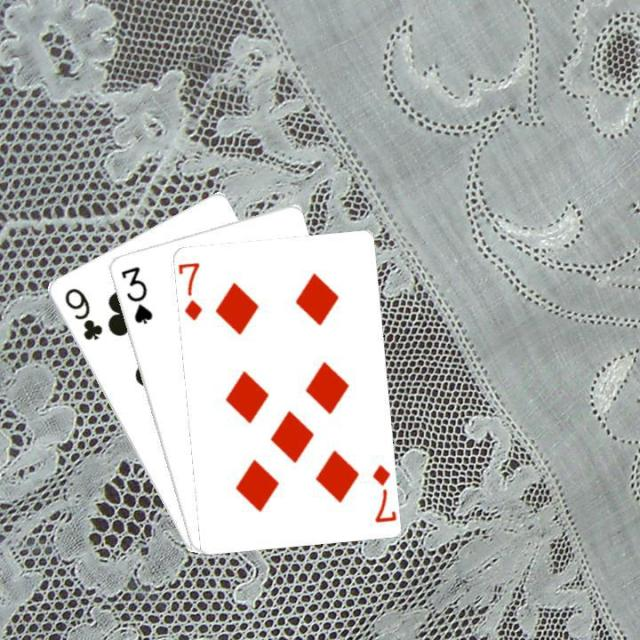3S: (116, 262, 154, 326)
7D: (368, 461, 395, 524), (177, 258, 203, 322)
9C: (60, 284, 104, 342)
